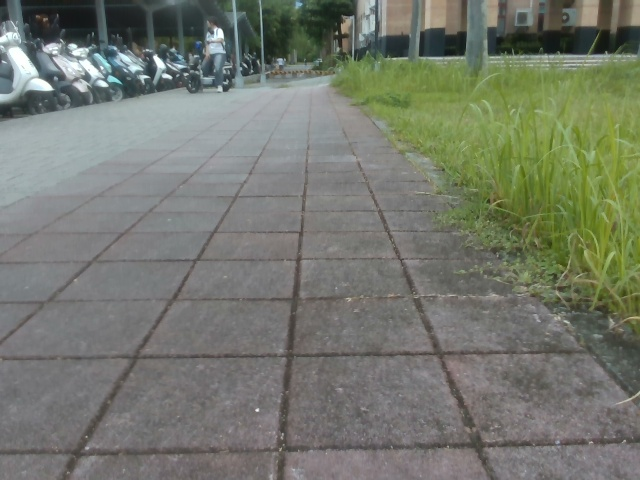grass: (326, 39, 639, 360), (183, 0, 355, 76)
road: (0, 78, 639, 479)
